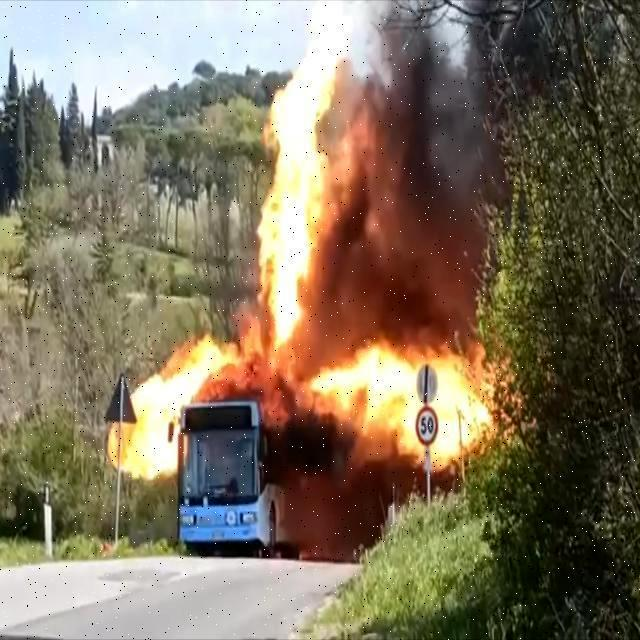helmet: (264, 4, 344, 352), (316, 332, 502, 468), (110, 339, 238, 460)
no_helmet: (372, 27, 495, 319), (303, 492, 391, 559)
